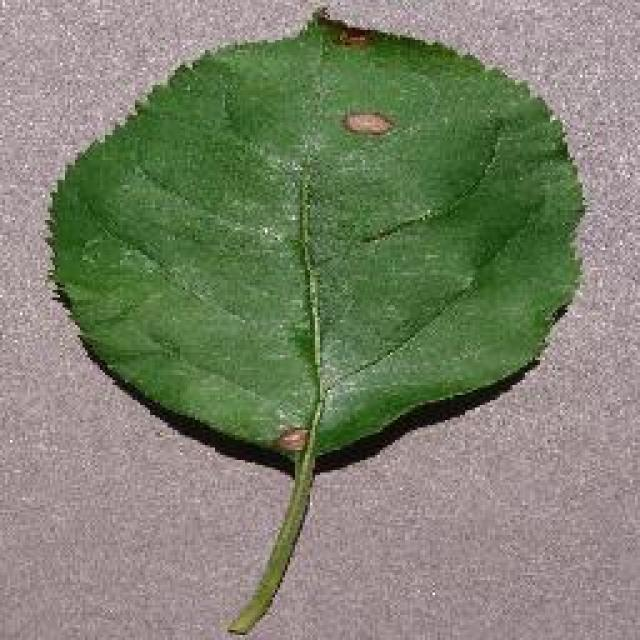Black_rot: (40, 10, 588, 635)
